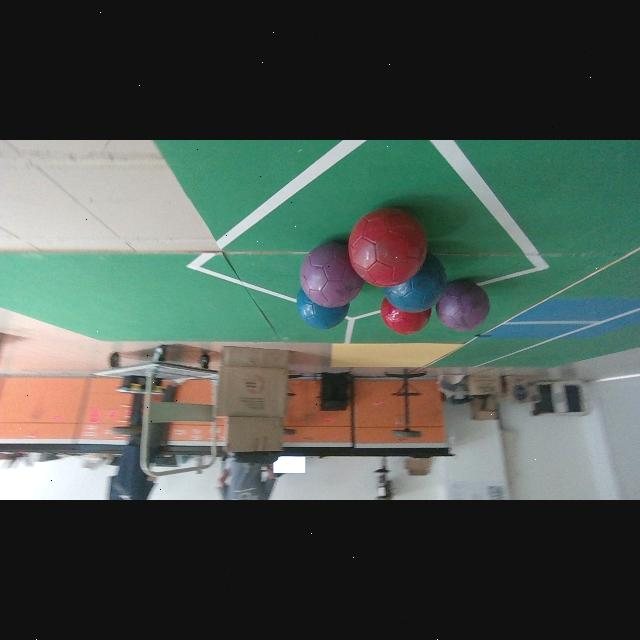B: (383, 254, 447, 313), (296, 289, 348, 329)
P: (300, 242, 364, 308), (436, 280, 490, 331)
R: (348, 208, 427, 287), (380, 299, 431, 335)
